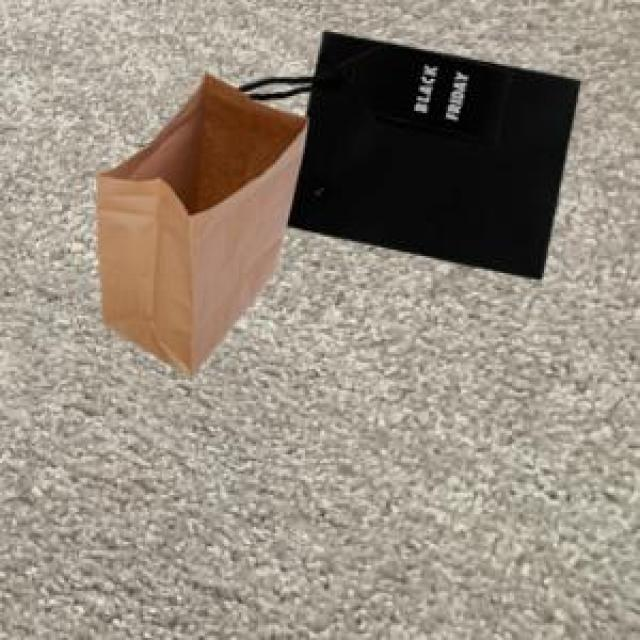paper: (235, 28, 575, 275), (92, 70, 303, 371)
